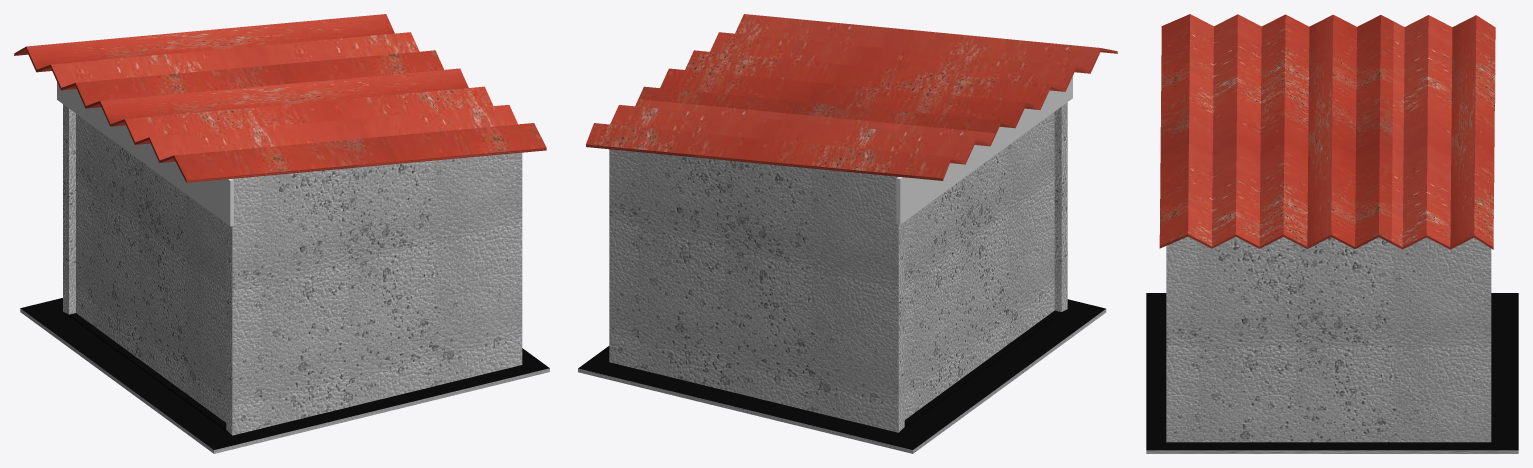
File: rusty shop.fbx
The picture shows the model from 3 angles, left to right: view 1: azimuth 30°, elevation 25°; view 2: azimuth 150°, elevation 25°; view 3: azimuth 270°, elevation 25°; orthographic projection. The views are drawn at different scales.
Visible parts, largest first — view 1: Cube, roof, Cube.001; view 2: Cube, roof, Cube.001; view 3: Cube, roof.
Boxes of the visible parts, left/top/right/bottom form: Cube: left=20, top=104, right=549, bottom=453; roof: left=14, top=14, right=546, bottom=182; Cube.001: left=57, top=82, right=233, bottom=226; Cube: left=578, top=102, right=1106, bottom=453; roof: left=586, top=14, right=1117, bottom=180; Cube.001: left=896, top=76, right=1072, bottom=224; Cube: left=1146, top=236, right=1518, bottom=453; roof: left=1159, top=14, right=1495, bottom=249.
Size of the model in its own units: 2209 by 1666 by 2046.
